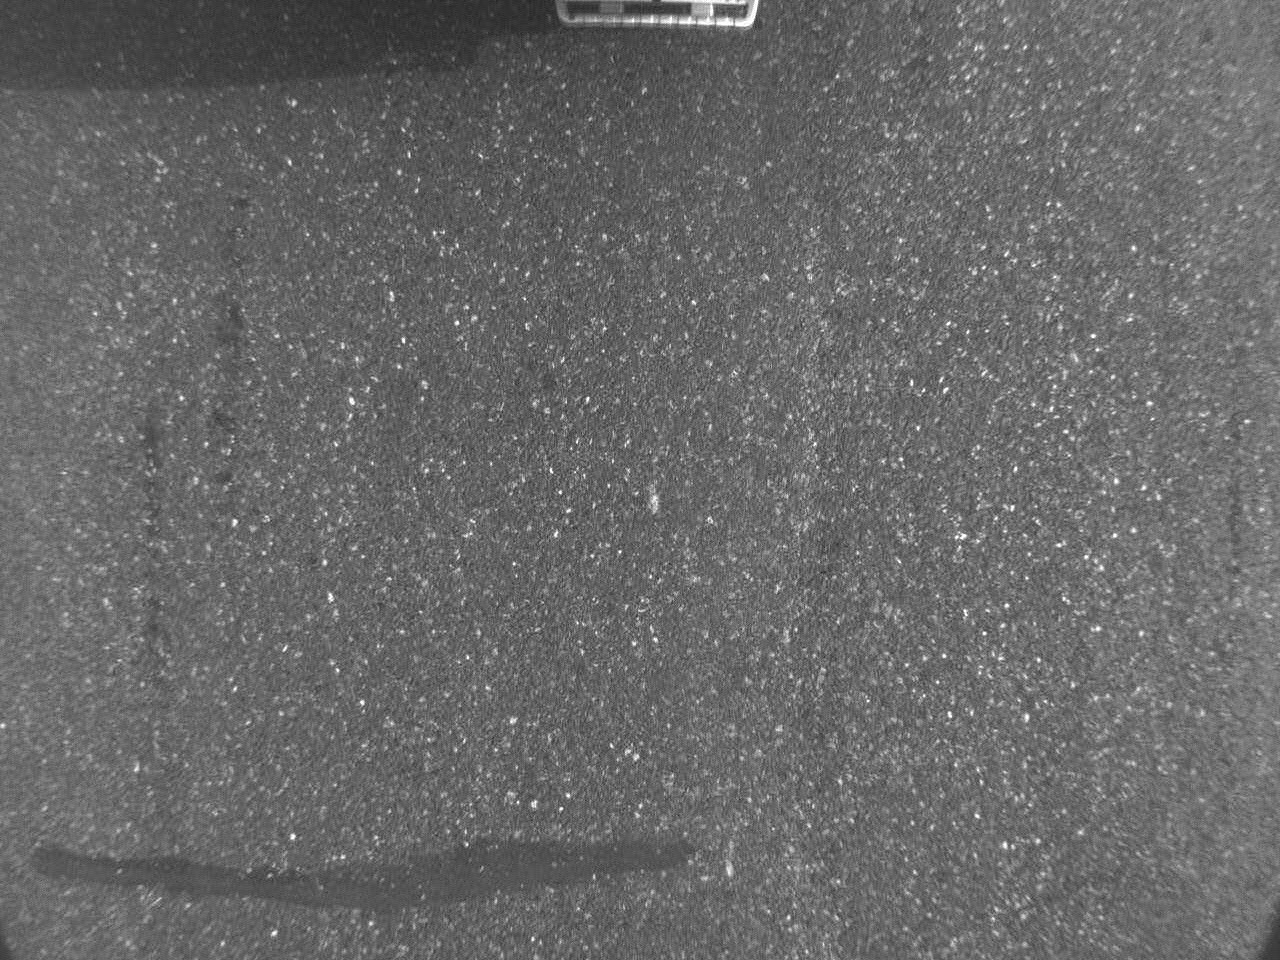sealed: (20, 828, 706, 910)
